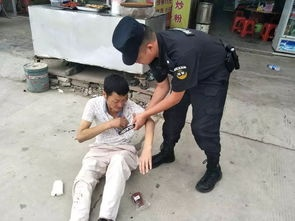falling: (41, 71, 163, 219)
